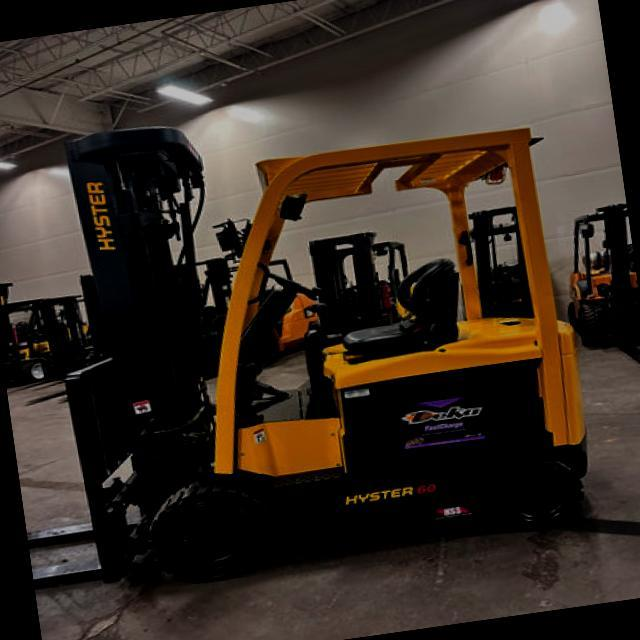forklift: (23, 53, 620, 640)
